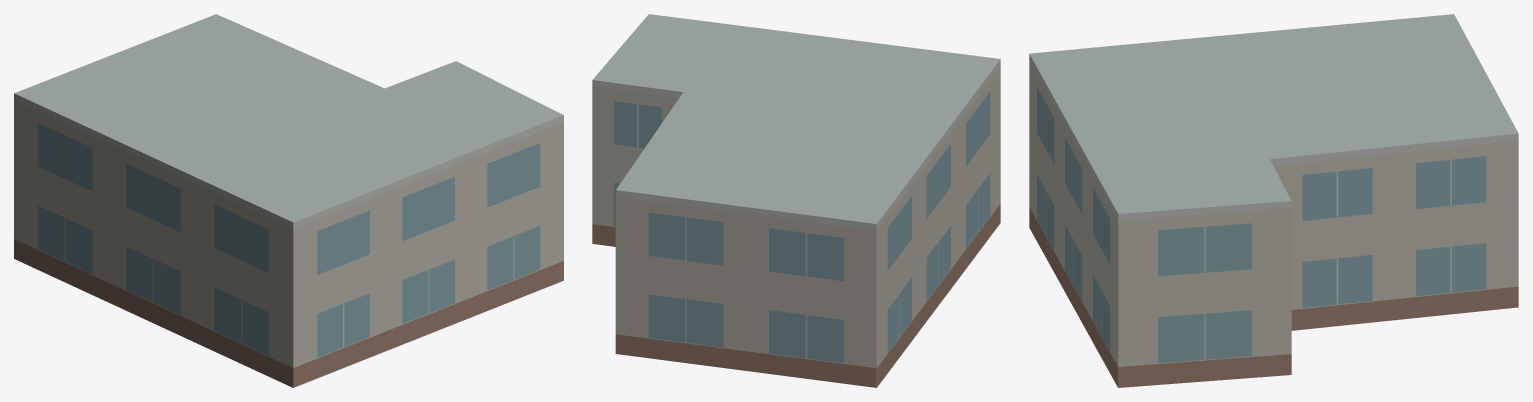
Rendered from survey-upis-32879153.glb.
3 views of the same model, side by side, from view 1: azimuth 30°, elevation 25°; view 2: azimuth 150°, elevation 25°; view 3: azimuth 270°, elevation 25° (orthographic). The views are drawn at different scales.
Visible parts, largest first — view 1: survey-upis-32879153.tmp; view 2: survey-upis-32879153.tmp; view 3: survey-upis-32879153.tmp.
Part boxes in pixels (x1=…): survey-upis-32879153.tmp: x1=14, y1=14, x2=563, y2=387; survey-upis-32879153.tmp: x1=592, y1=14, x2=1000, y2=387; survey-upis-32879153.tmp: x1=1029, y1=14, x2=1518, y2=387.
Bounding box in the file's own units: 15.05 × 6.1 × 15.57.
